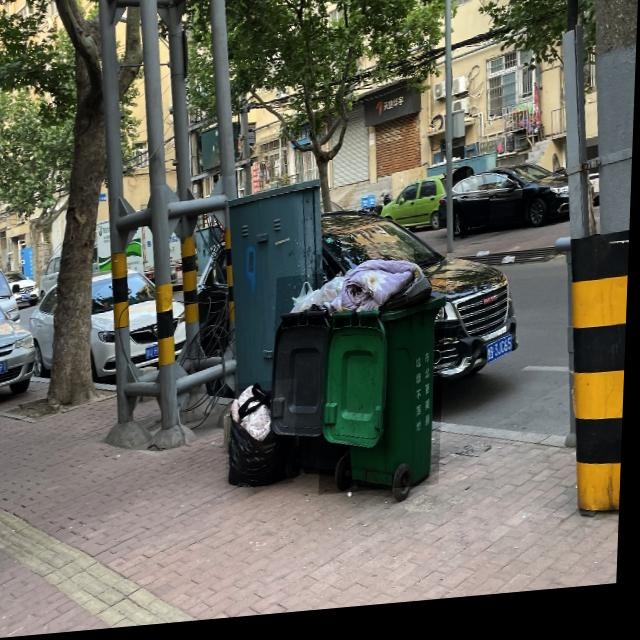garbage: (229, 384, 300, 494)
overflow: (322, 260, 450, 501), (273, 278, 347, 479)
